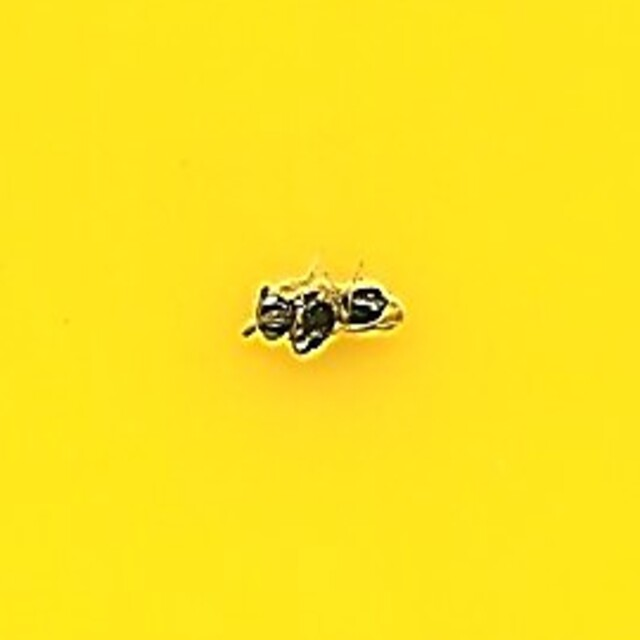Hymenoptera: (237, 272, 403, 368)
